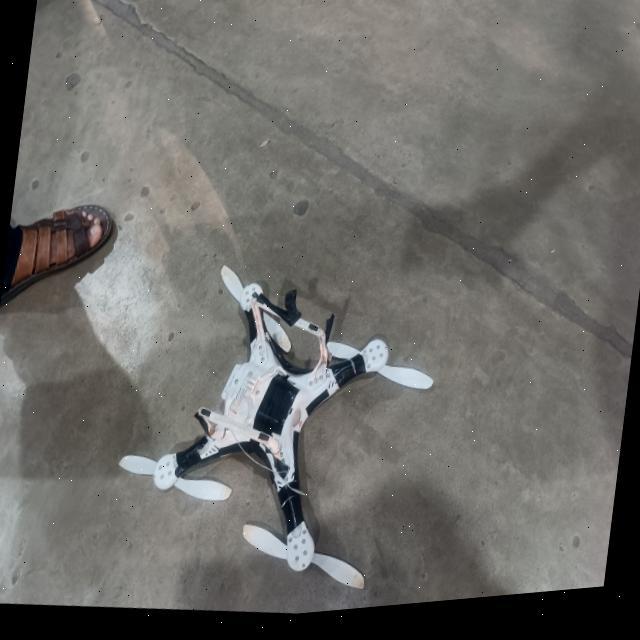drone: (92, 225, 441, 634)
